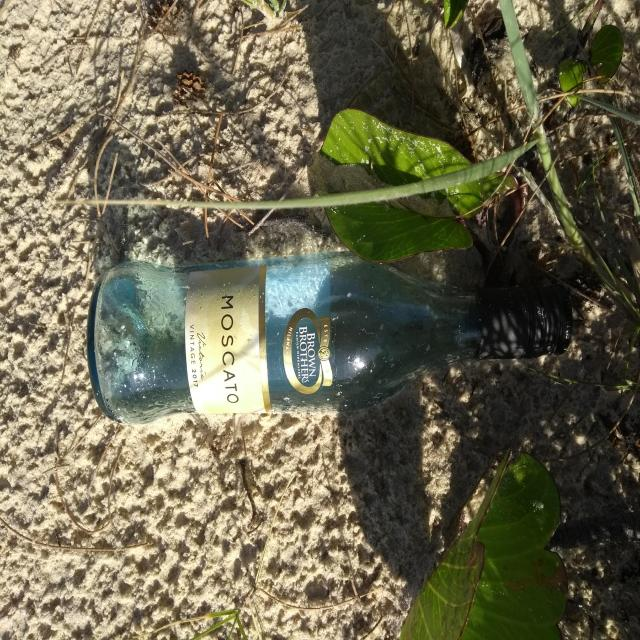litter: (87, 252, 570, 427)
